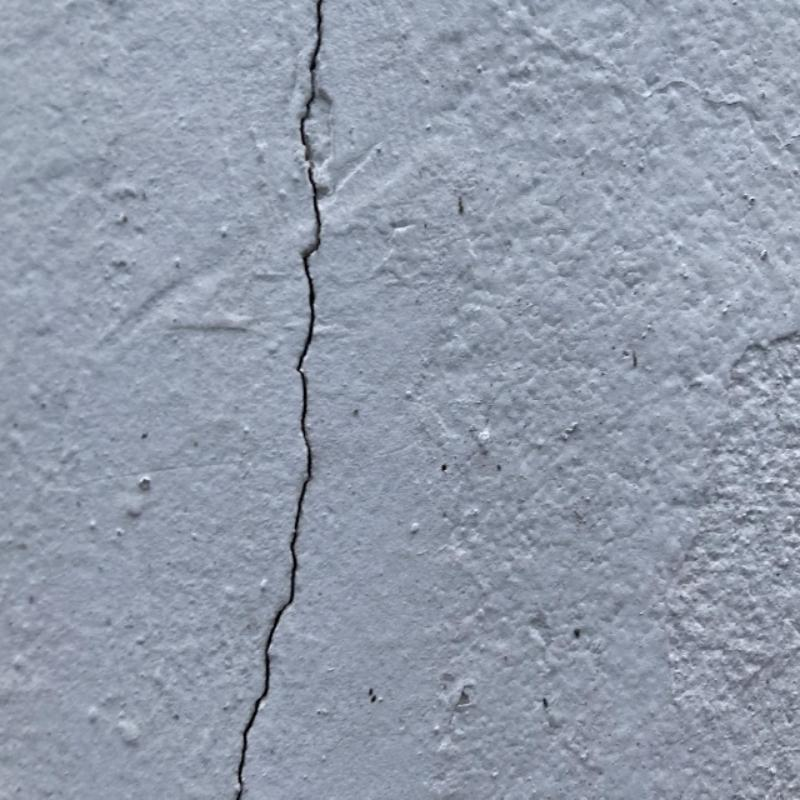crack: (235, 1, 322, 797)
